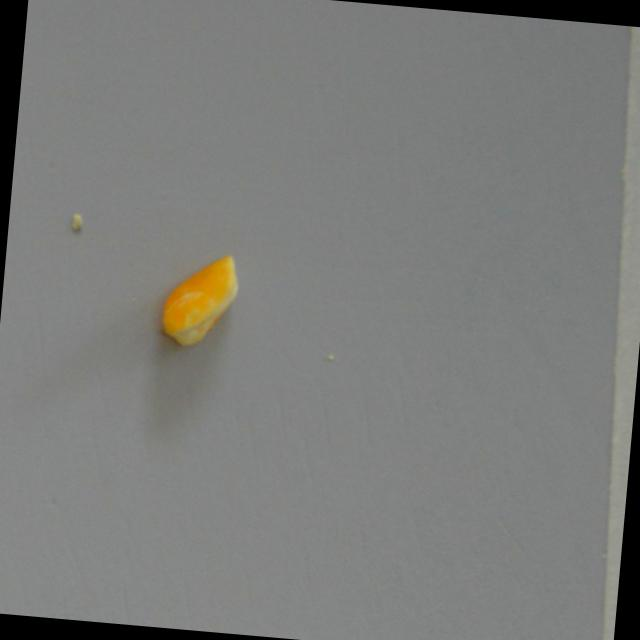dañado: (153, 245, 247, 355)
